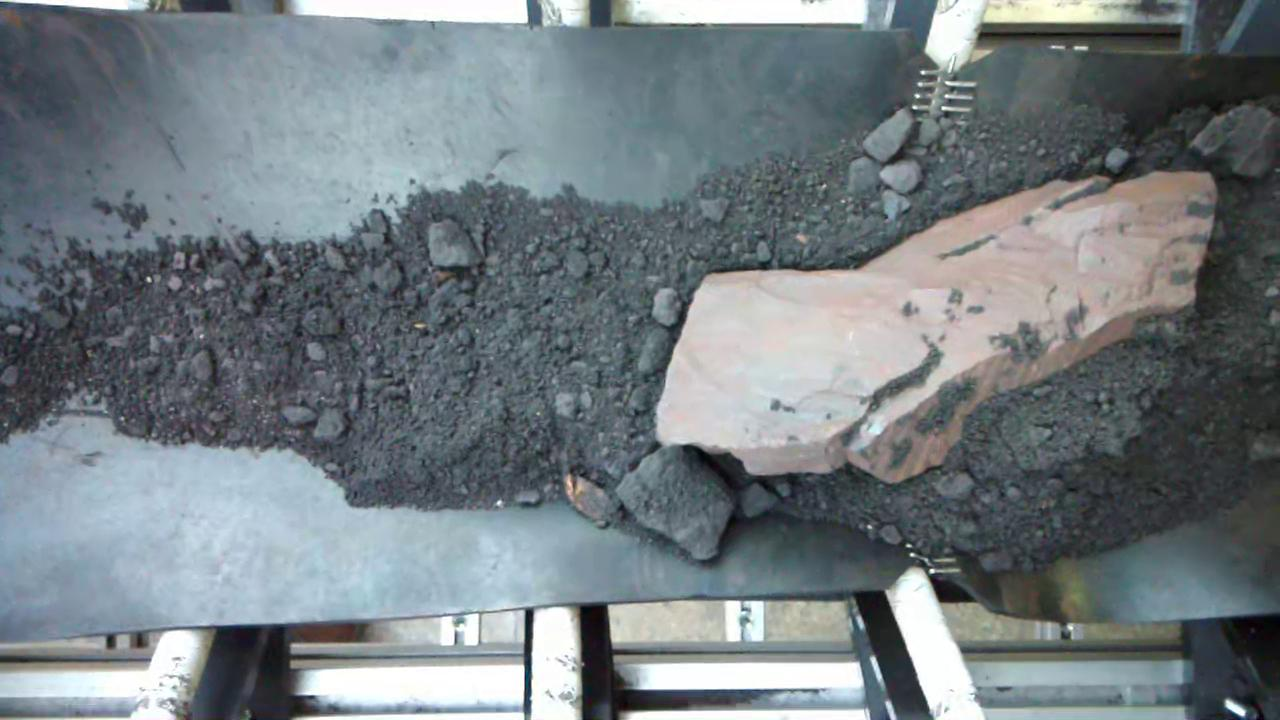conveyor: (3, 26, 1280, 614)
